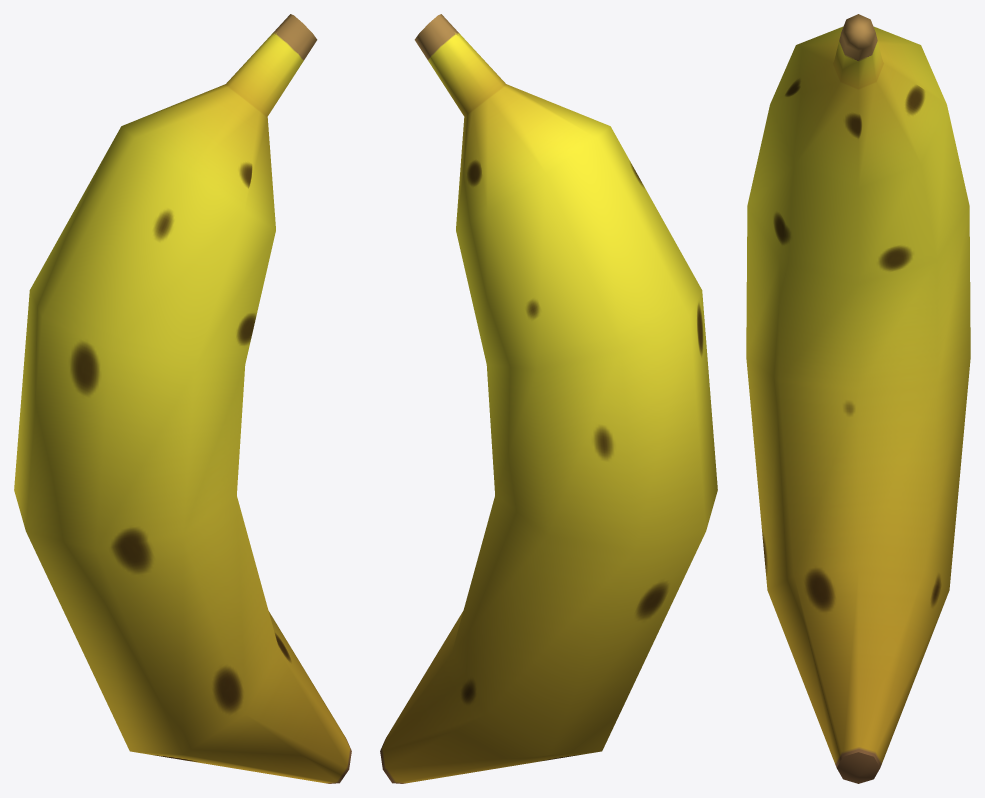
Rendered from banana.fbx.
3 renders of one model, left to right at view 1: azimuth 30°, elevation 25°; view 2: azimuth 150°, elevation 25°; view 3: azimuth 270°, elevation 25°, orthographic. The views are drawn at different scales.
Parts seen in each view (by area): view 1: banana_mesh; view 2: banana_mesh; view 3: banana_mesh.
Boxes of the visible parts, x1,y1,x2,y2 form: banana_mesh: (14, 14, 351, 783); banana_mesh: (380, 14, 717, 783); banana_mesh: (746, 14, 970, 783).
Bounding box in the file's own units: 2.82 × 6.53 × 1.76.
